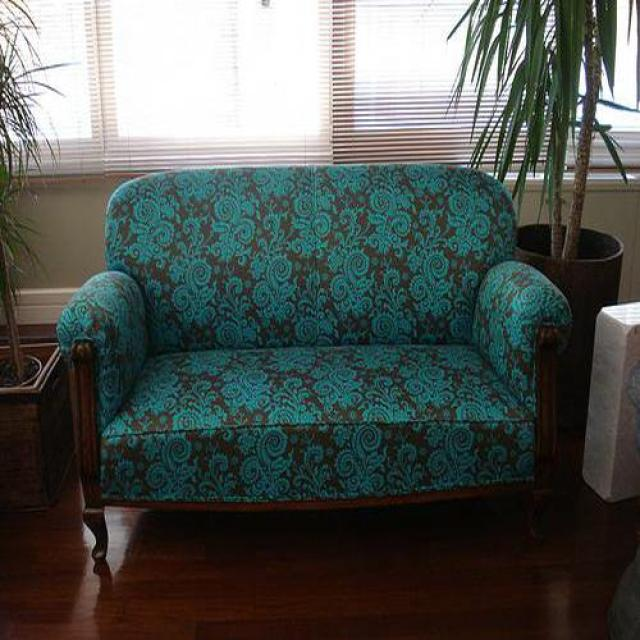sofa: (55, 164, 572, 539)
